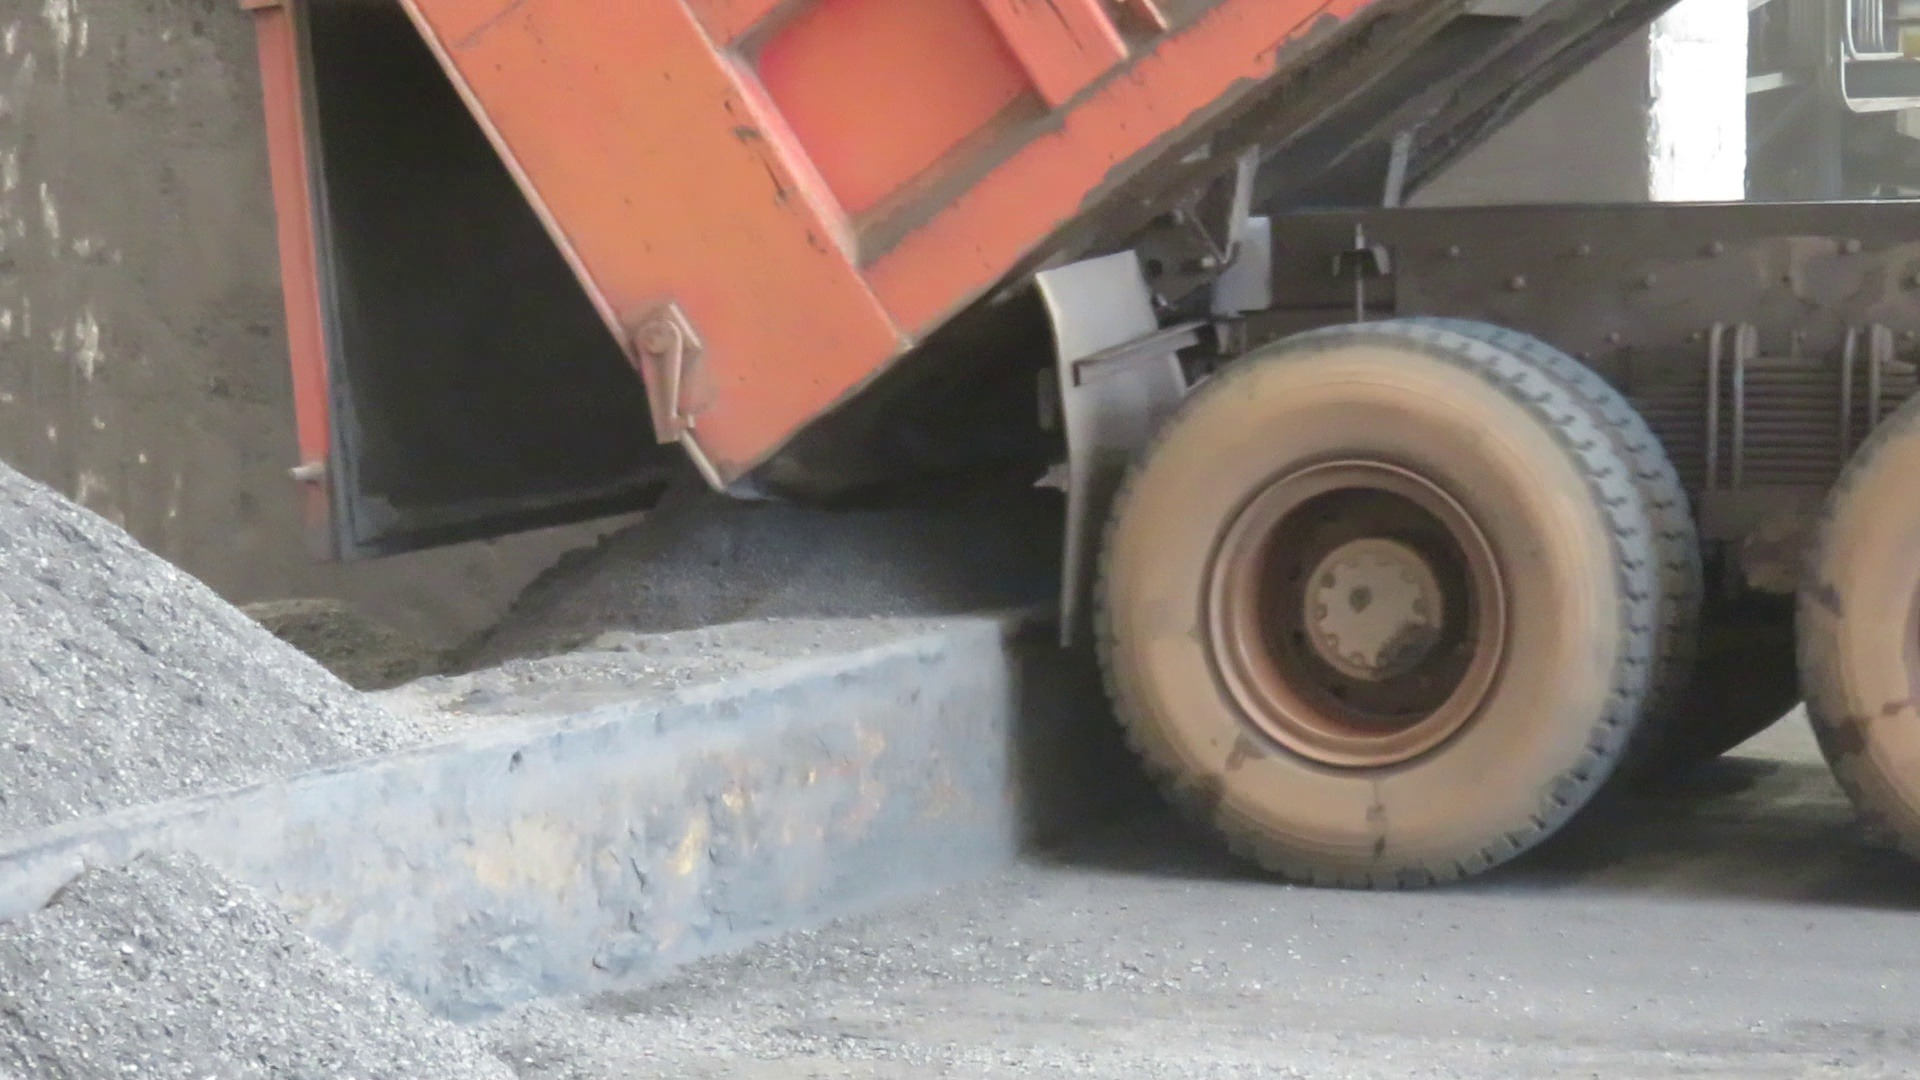truck: (364, 0, 1920, 913)
